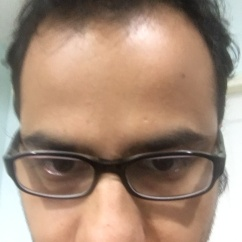glasses: (4, 141, 237, 207)
